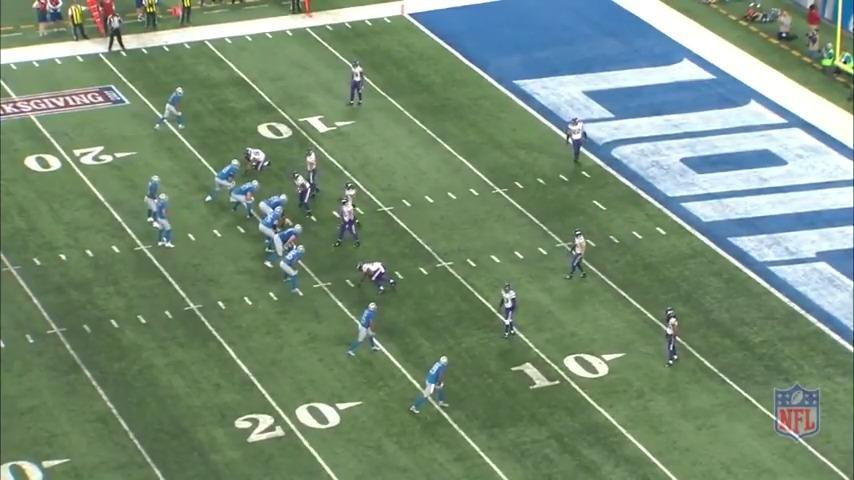defense: (658, 307, 682, 370), (497, 282, 522, 341), (333, 200, 361, 250), (357, 260, 398, 293), (564, 229, 588, 285), (294, 171, 319, 220), (565, 114, 586, 172), (240, 145, 271, 180), (349, 59, 369, 111), (307, 143, 322, 194), (343, 182, 358, 210)
oline: (265, 223, 305, 270), (207, 160, 243, 204), (230, 180, 261, 221), (257, 208, 285, 246), (260, 194, 289, 219)
qb: (157, 190, 179, 249)
ref: (103, 11, 128, 53)
skill: (410, 353, 456, 417), (346, 302, 386, 361), (154, 85, 190, 133), (278, 240, 308, 297), (145, 174, 162, 229)
